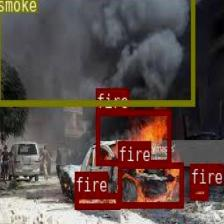fire: (96, 109, 170, 165), (118, 162, 182, 207), (74, 192, 120, 208), (189, 184, 207, 199)
smoke: (0, 0, 194, 104)
